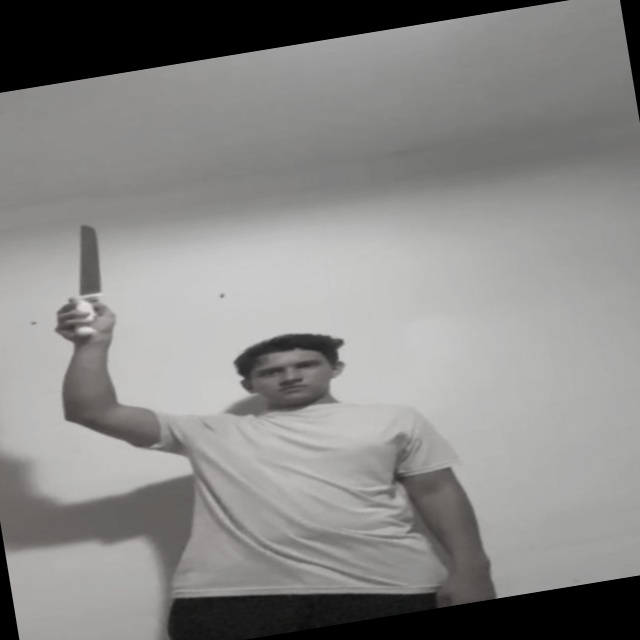Sharp-Object: (72, 223, 103, 298)
